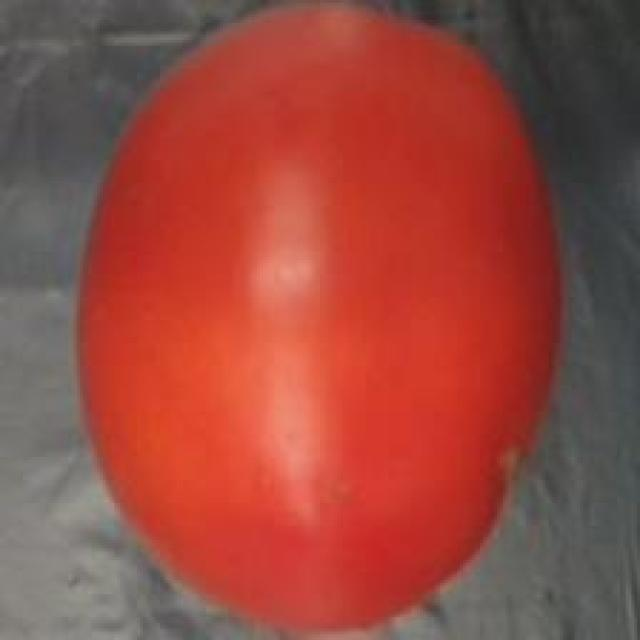ripe tomato: (63, 0, 571, 640)
